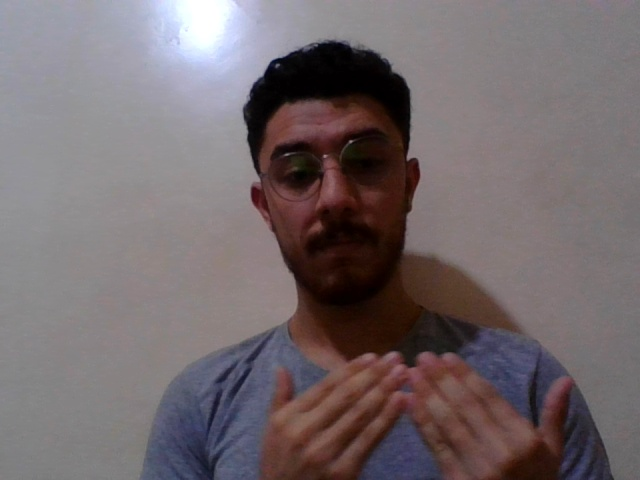Thank You: (236, 322, 609, 480)
